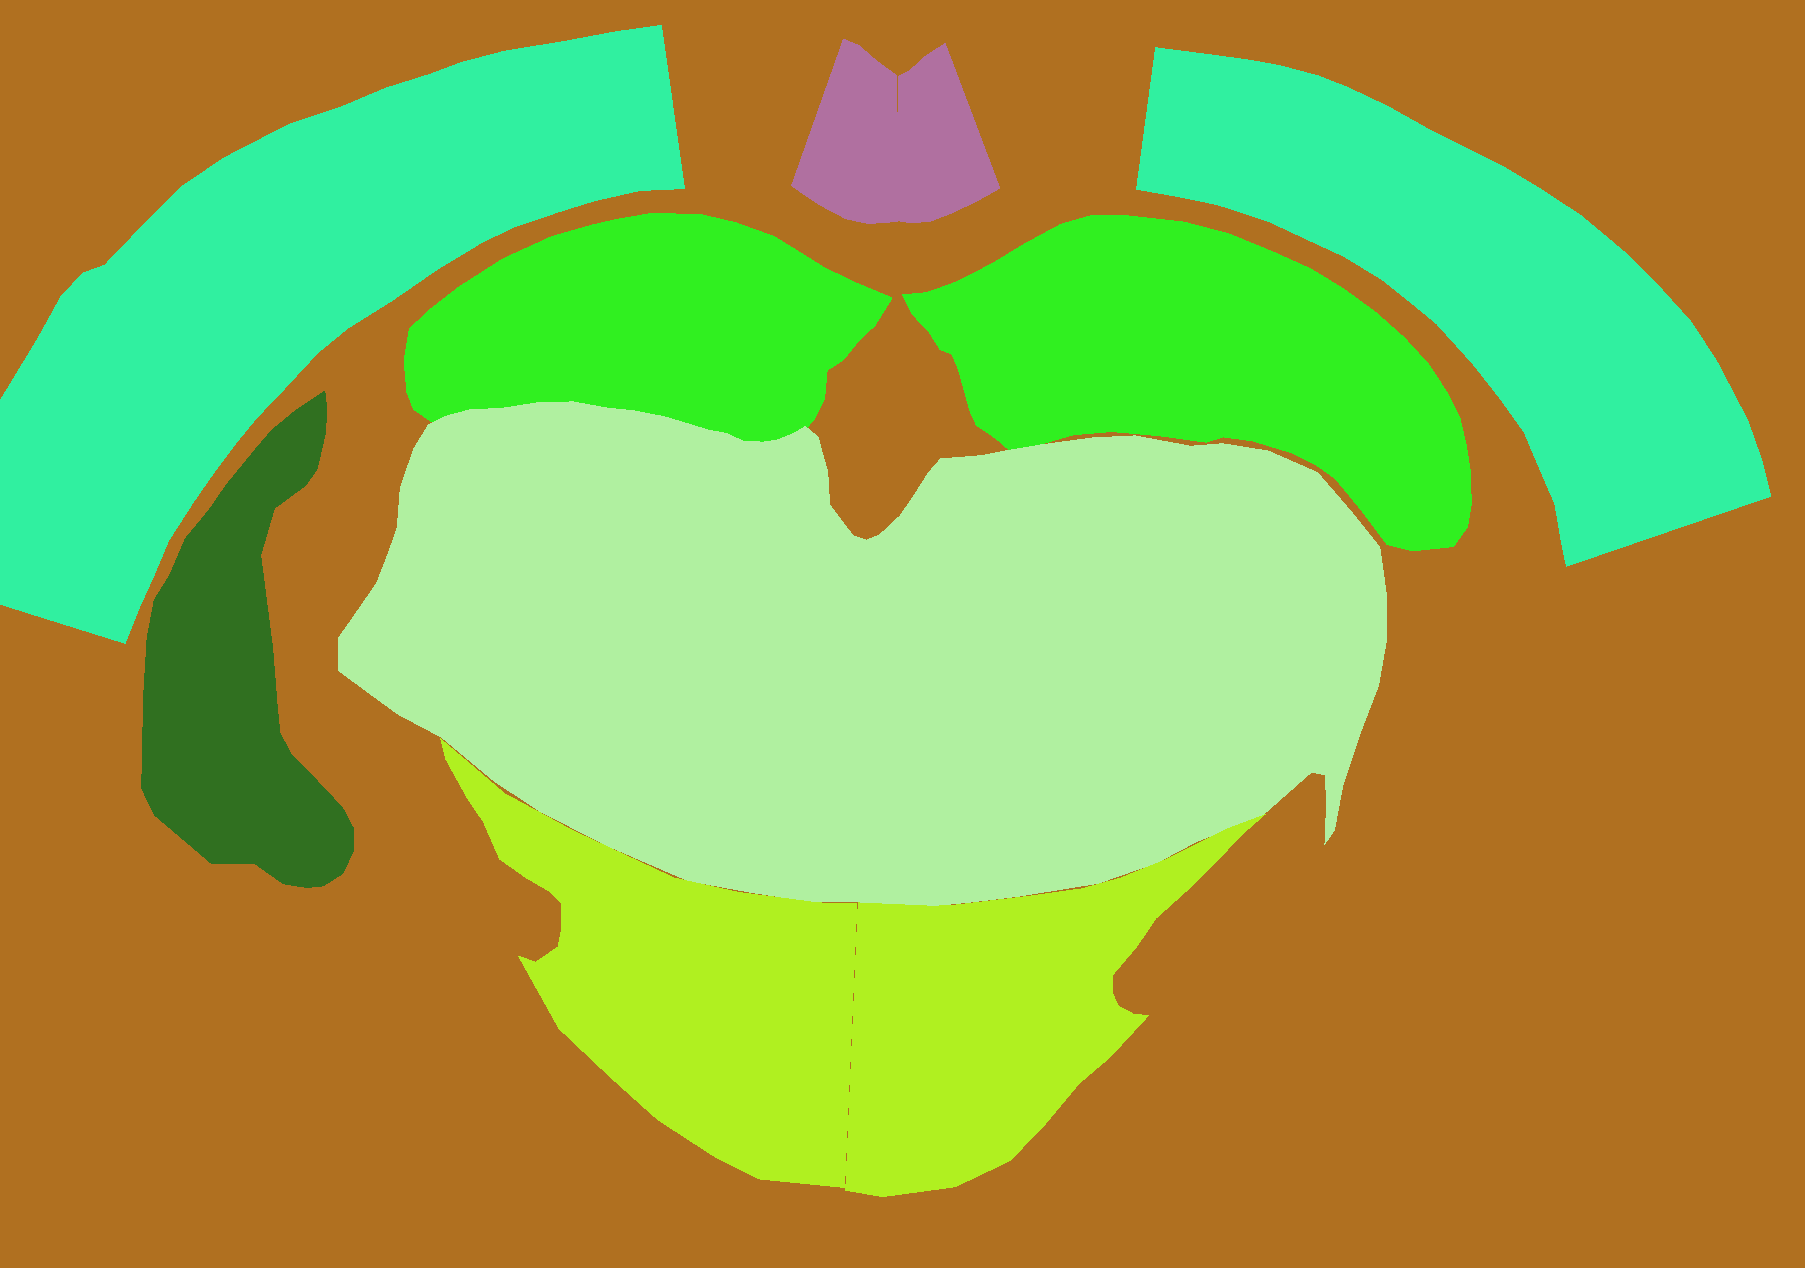Cerebral nuclei: (141, 390, 354, 888)
Hippocampal formation: (901, 215, 1470, 552), (405, 213, 893, 449)
Hypothalamus: (440, 738, 859, 1188), (845, 814, 1266, 1197)
Retrosplenial area: (791, 38, 898, 224), (898, 43, 1000, 224)
Somatosensory area: (0, 25, 684, 644), (1136, 47, 1772, 567)
Thalamus: (337, 401, 865, 902), (859, 435, 1388, 906)
